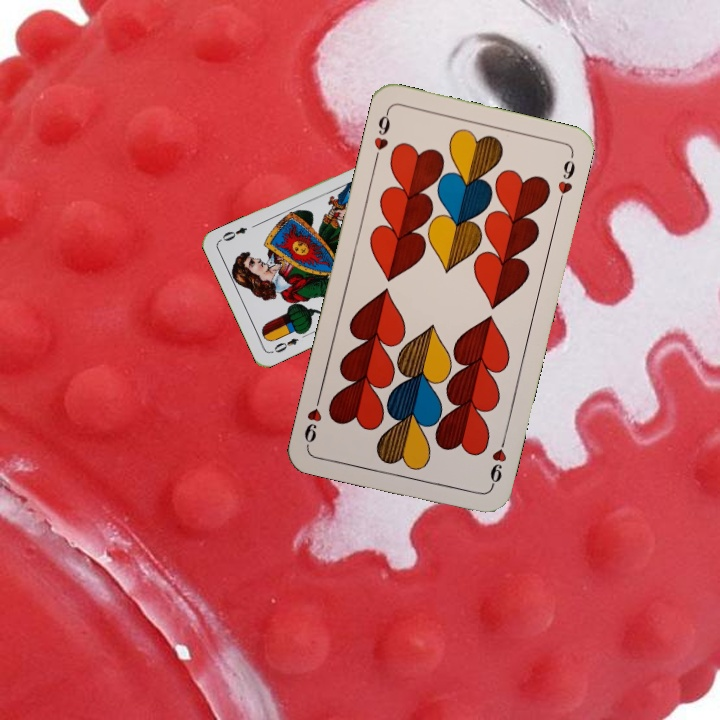EO: (267, 334, 301, 356)
H9: (369, 106, 393, 165), (486, 433, 509, 491)
